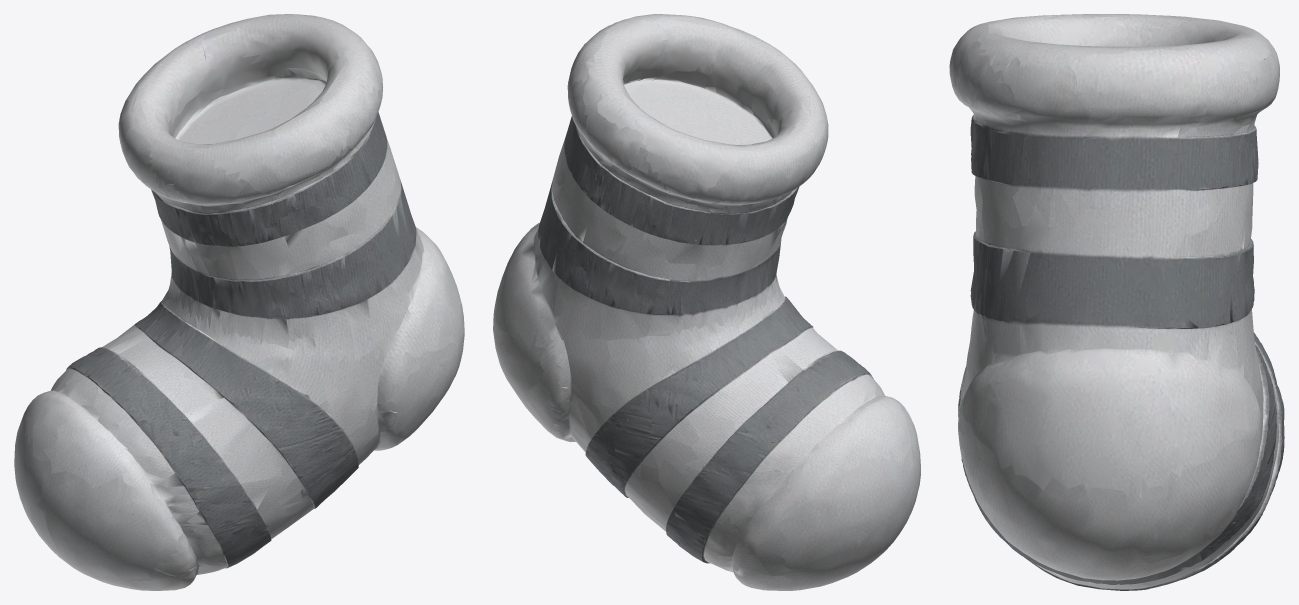
Rendered from calcetin.glb.
3 renders of one model, left to right at view 1: azimuth 30°, elevation 25°; view 2: azimuth 150°, elevation 25°; view 3: azimuth 270°, elevation 25°, orthographic. The views are drawn at different scales.
Visible parts, largest first — view 1: output_unwrapped; view 2: output_unwrapped; view 3: output_unwrapped.
Part boxes in pixels (x1,y1,x2,y2): output_unwrapped: (14, 14, 464, 590); output_unwrapped: (493, 14, 920, 590); output_unwrapped: (949, 14, 1284, 590).
Size of the model in its own units: 1.6 by 1.9 by 0.9152.
Materials: 1 (1 with a texture image).
